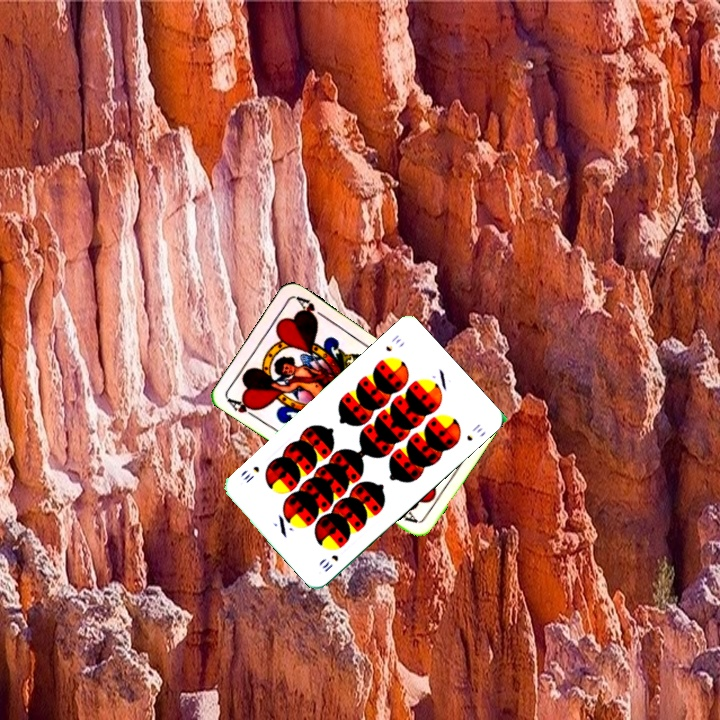HA: (224, 394, 261, 422)
S10: (318, 551, 341, 575), (382, 331, 404, 354)
